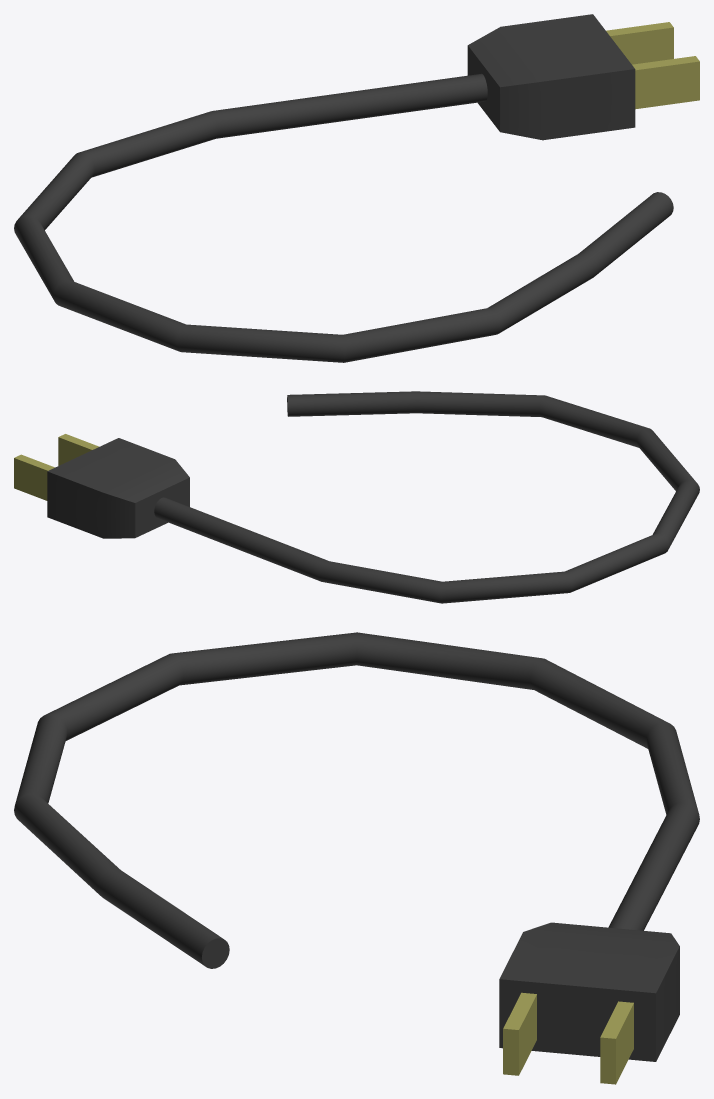
File: Charger (Wall).fbx
The picture shows the model from 3 angles, top to bottom: view 1: azimuth 30°, elevation 25°; view 2: azimuth 150°, elevation 25°; view 3: azimuth 270°, elevation 25°; orthographic projection. The views are drawn at different scales.
Visible parts, largest first — view 1: pCylinder1, pCube1; view 2: pCylinder1, pCube1; view 3: pCylinder1, pCube1.
Boxes of the visible parts, bbox=[...] form: pCylinder1: bbox=[14, 73, 673, 362]; pCube1: bbox=[467, 14, 699, 140]; pCylinder1: bbox=[154, 391, 699, 603]; pCube1: bbox=[14, 434, 189, 538]; pCylinder1: bbox=[14, 632, 699, 968]; pCube1: bbox=[499, 922, 679, 1084].
Bounding box in the file's own units: 6.14 × 0.4737 × 4.28.
